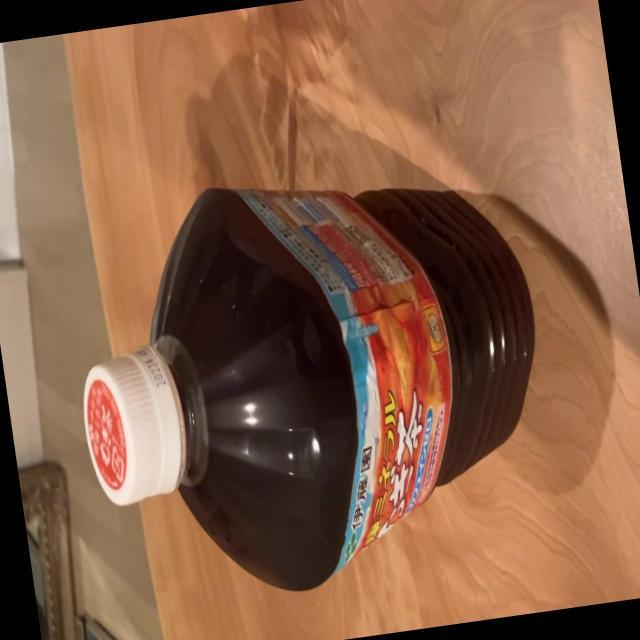good: (51, 142, 571, 624)
